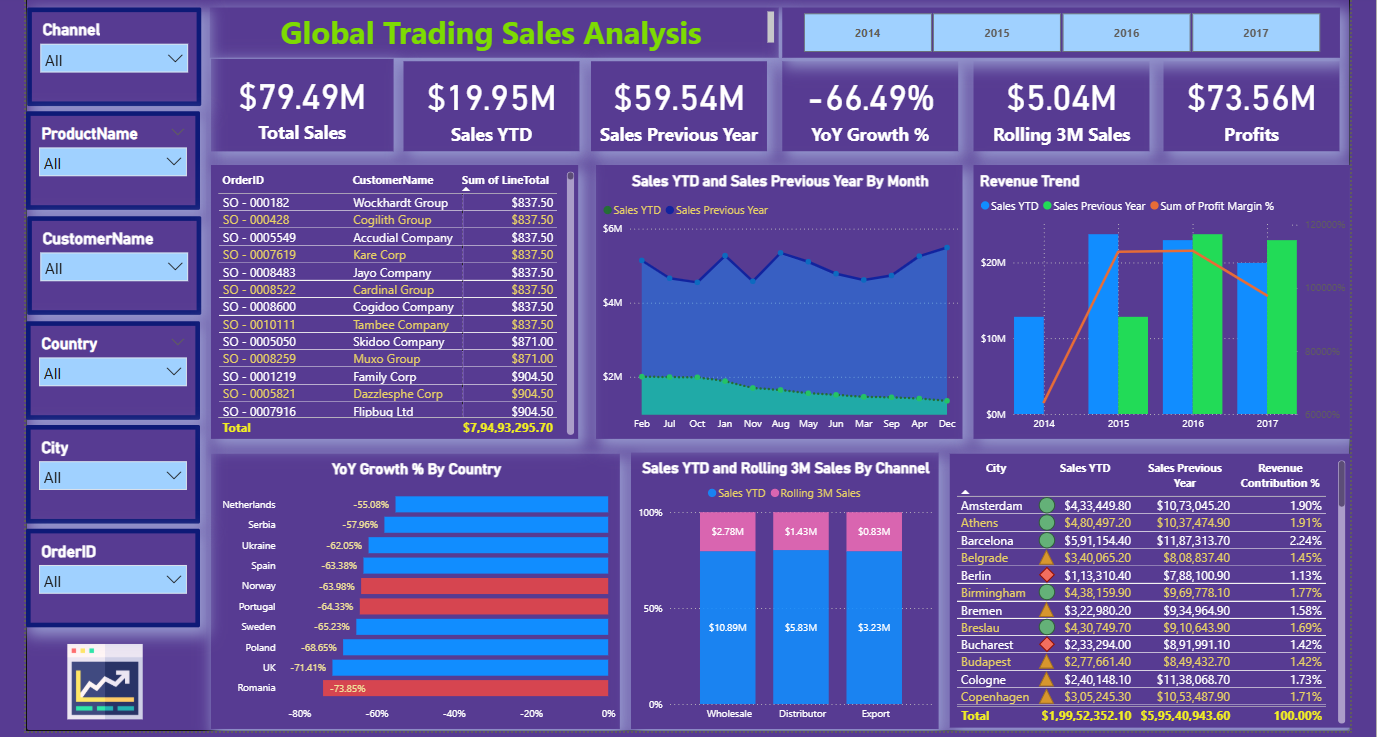

The page's visual inventory and layout, read from the dashboard file:
{"tool":"powerbi","page":{"name":"Performance_Insights","canvas":[1600,890],"ordinal":1},"visuals":[{"type":"textbox","box":[222.2,15.1,687.8,60.5],"z":0},{"type":"image","box":[21.2,780,148.1,101.3],"z":1000},{"type":"card","fields":{"Values":["Measures Table.Total Sales"]},"box":[223.7,77.1,220.7,111.9],"z":2000},{"type":"card","fields":{"Values":["Measures Table.Sales YTD"]},"box":[456.5,80.1,213.1,108.8],"z":3000},{"type":"card","fields":{"Values":["Measures Table.Sales Previous Year"]},"box":[683.2,80.1,213.1,108.8],"z":4000},{"type":"card","fields":{"Values":["Measures Table.YoY Growth %"]},"box":[914.5,80.1,213.1,108.8],"z":5000},{"type":"card","fields":{"Values":["Measures Table.Rolling 3M Sales"]},"box":[1145.8,80.1,213.1,108.8],"z":6000},{"type":"card","fields":{"Values":["Sum(salesdb orders.Profit)"]},"box":[1375.5,80.1,213.1,108.8],"z":7000},{"type":"barChart","title":"YoY Growth % By Country","fields":{"Y":["Measures Table.YoY Growth %"],"Category":["salesdb regions.Country"]},"box":[223.7,554.7,494.3,332.5],"z":8000},{"type":"hundredPercentStackedColumnChart","title":"Sales YTD and Rolling 3M Sales By Channel","fields":{"Category":["salesdb orders.Channel"],"Y":["Measures Table.Sales YTD","Measures Table.Rolling 3M Sales"]},"box":[731.6,553.2,371.8,334.1],"z":9000},{"type":"areaChart","title":"Sales YTD and Sales Previous Year By Month","fields":{"Y":["Measures Table.Sales YTD","Measures Table.Sales Previous Year"],"Category":["Date Table.Month Name"]},"box":[689.3,205.6,442.9,331],"z":10000},{"type":"slicer","fields":{"Values":["salesdb orders.Channel"]},"box":[1.5,15.1,210.1,119.4],"z":11000},{"type":"slicer","fields":{"Values":["salesdb products.ProductName"]},"box":[0,140.6,210.1,119.4],"z":12000},{"type":"slicer","fields":{"Values":["salesdb customers.CustomerName"]},"box":[1.5,267.5,210.1,119.4],"z":13000},{"type":"slicer","fields":{"Values":["salesdb regions.Country"]},"box":[0,394.5,210.1,119.4],"z":14000},{"type":"slicer","fields":{"Values":["salesdb regions.City"]},"box":[0,520,210.1,119.4],"z":15000},{"type":"slicer","fields":{"Values":["salesdb orders.OrderID"]},"box":[0,645.4,210.1,119.4],"z":16000},{"type":"slicer","fields":{"Values":["Date Table.Year"]},"box":[914.5,15.1,674.2,60.5],"z":17000},{"type":"tableEx","title":"Top 5 Customers","fields":{"Values":["salesdb orders.OrderID","salesdb customers.CustomerName","Sum(salesdb orders.LineTotal)"]},"box":[223.7,205.6,444.4,331],"z":18000},{"type":"lineClusteredColumnComboChart","title":"Revenue Trend","fields":{"Y":["Measures Table.Sales YTD","Measures Table.Sales Previous Year"],"Y2":["Sum(salesdb orders.Profit Margin %)"],"Category":["Date Table.Year"]},"box":[1145.8,205.6,455,331],"z":19000},{"type":"tableEx","title":"Top 5 Customers","fields":{"Values":["salesdb regions.City","Measures Table.Sales YTD","Measures Table.Sales Previous Year","Measures Table.Revenue Contribution %"]},"box":[1117,554.7,483.7,331],"z":20000}]}

Visuals, with their boxes on the page's 1600x890 design canvas (x1, y1, x2, y2). These are canvas units, not pixel positions in the 1377x737 screenshot, which may show the page scaled, cropped or inside an application window:
textbox: <bbox>222, 15, 910, 76</bbox>
image: <bbox>21, 780, 169, 881</bbox>
card - Measures Table.Total Sales: <bbox>224, 77, 444, 189</bbox>
card - Measures Table.Sales YTD: <bbox>456, 80, 670, 189</bbox>
card - Measures Table.Sales Previous Year: <bbox>683, 80, 896, 189</bbox>
card - Measures Table.YoY Growth %: <bbox>914, 80, 1128, 189</bbox>
card - Measures Table.Rolling 3M Sales: <bbox>1146, 80, 1359, 189</bbox>
card - Sum(salesdb orders.Profit): <bbox>1376, 80, 1589, 189</bbox>
"YoY Growth % By Country" barChart: <bbox>224, 555, 718, 887</bbox>
"Sales YTD and Rolling 3M Sales By Channel" hundredPercentStackedColumnChart: <bbox>732, 553, 1103, 887</bbox>
"Sales YTD and Sales Previous Year By Month" areaChart: <bbox>689, 206, 1132, 537</bbox>
slicer - salesdb orders.Channel: <bbox>2, 15, 212, 134</bbox>
slicer - salesdb products.ProductName: <bbox>0, 141, 210, 260</bbox>
slicer - salesdb customers.CustomerName: <bbox>2, 268, 212, 387</bbox>
slicer - salesdb regions.Country: <bbox>0, 394, 210, 514</bbox>
slicer - salesdb regions.City: <bbox>0, 520, 210, 639</bbox>
slicer - salesdb orders.OrderID: <bbox>0, 645, 210, 765</bbox>
slicer - Date Table.Year: <bbox>914, 15, 1589, 76</bbox>
"Top 5 Customers" tableEx: <bbox>224, 206, 668, 537</bbox>
"Revenue Trend" lineClusteredColumnComboChart: <bbox>1146, 206, 1601, 537</bbox>
"Top 5 Customers" tableEx: <bbox>1117, 555, 1601, 886</bbox>
